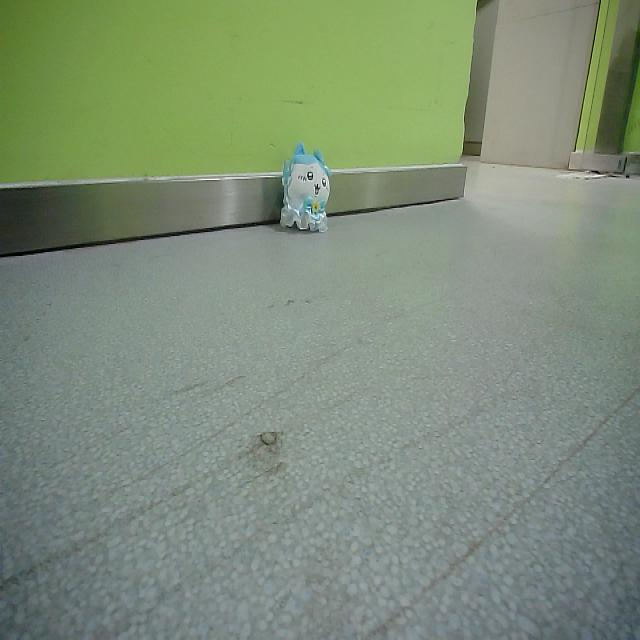xiaoba: (278, 141, 329, 235)
